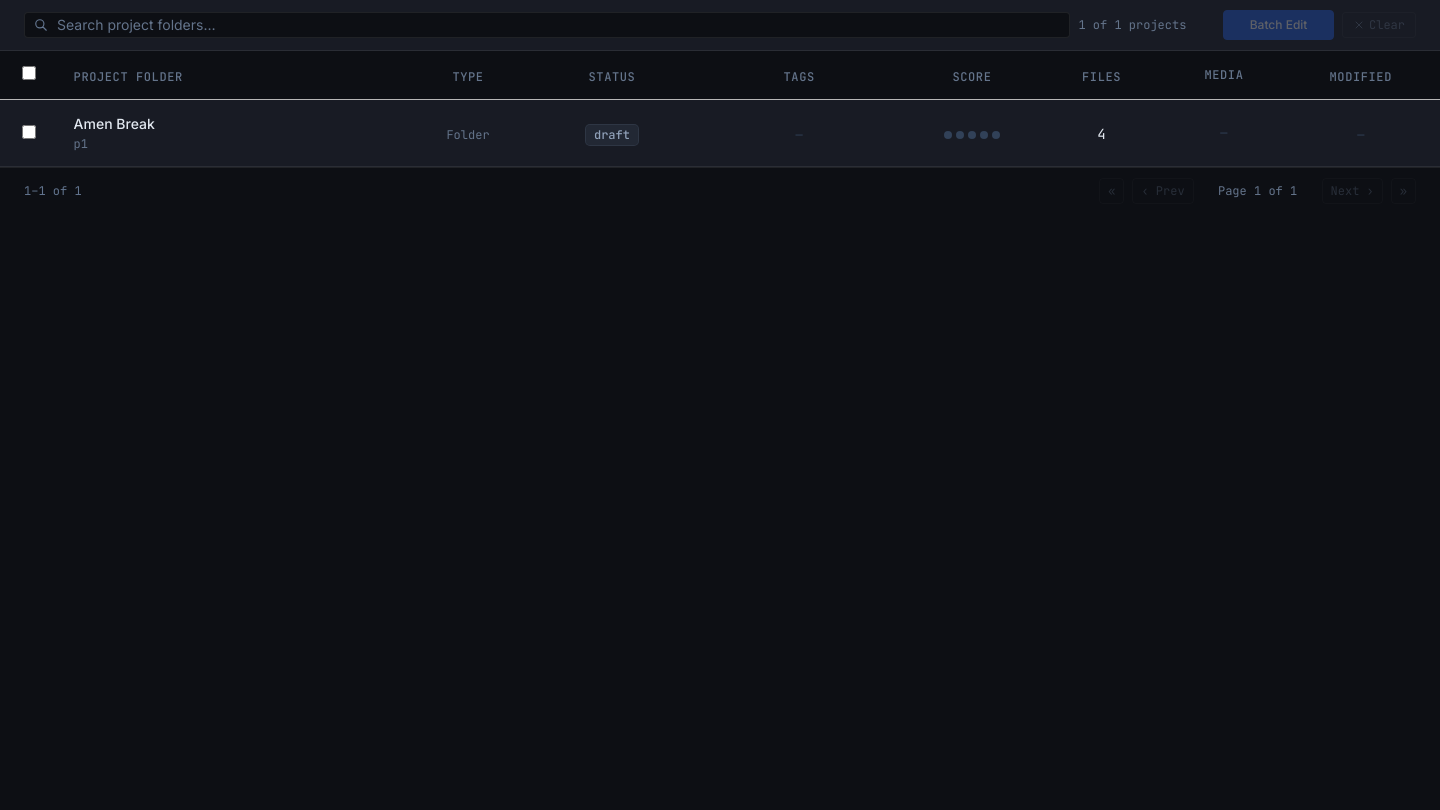
CustomProjectsTabPanel - row click opens the detail panel › opens ProjectDetailPanel with the clicked project
Click the text "Amen Break" at (114, 124), box left=74, top=114, right=155, bottom=134
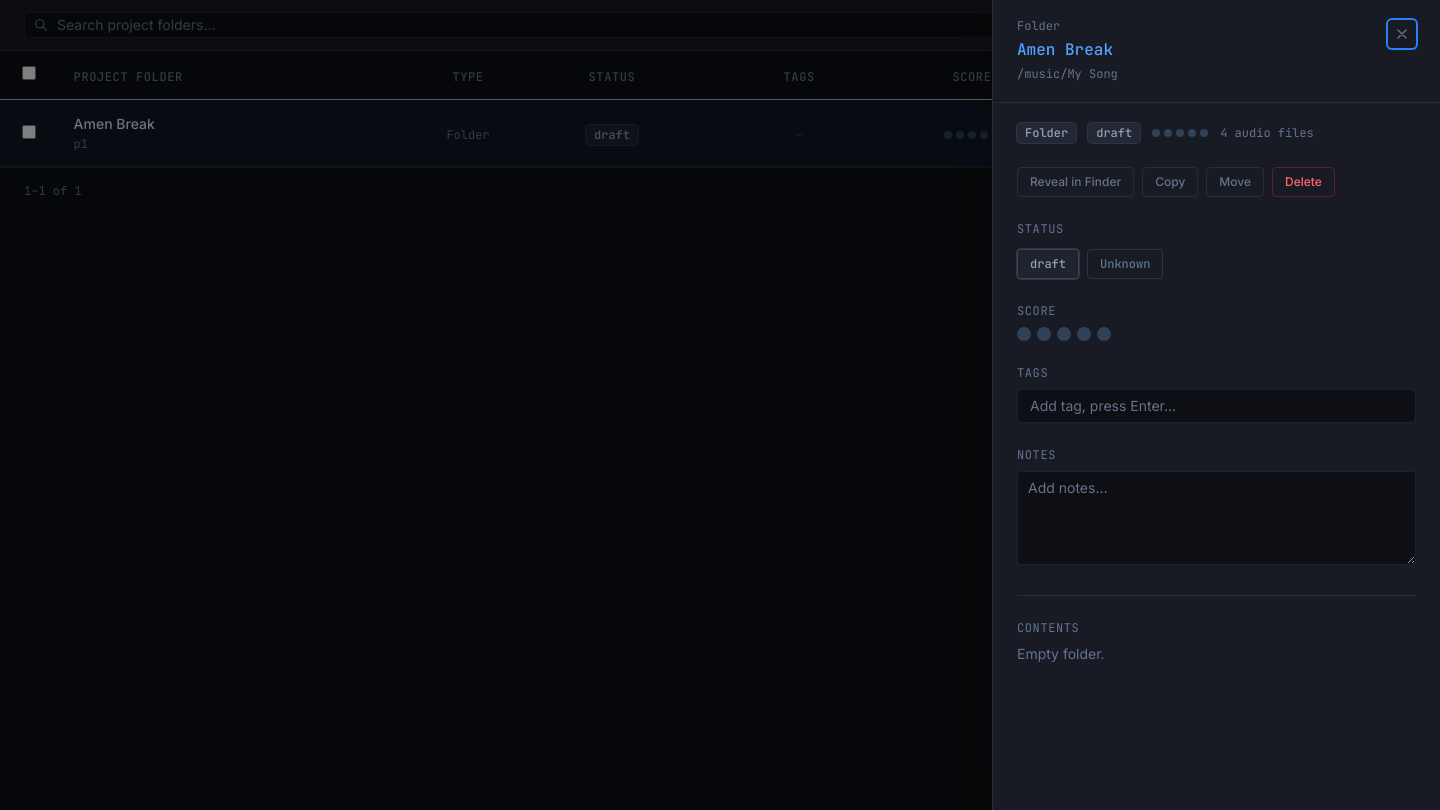
Expected: the dialog named "Folder detail: Amen Break" is shown, left=992, top=0, right=1439, bottom=809
